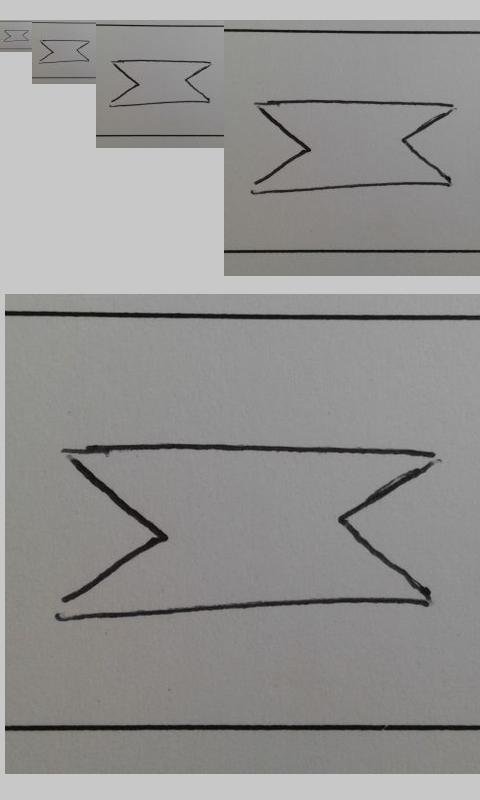edit_text: (53, 441, 434, 623), (249, 99, 456, 196), (109, 57, 212, 107), (39, 39, 90, 64), (3, 29, 30, 43)
